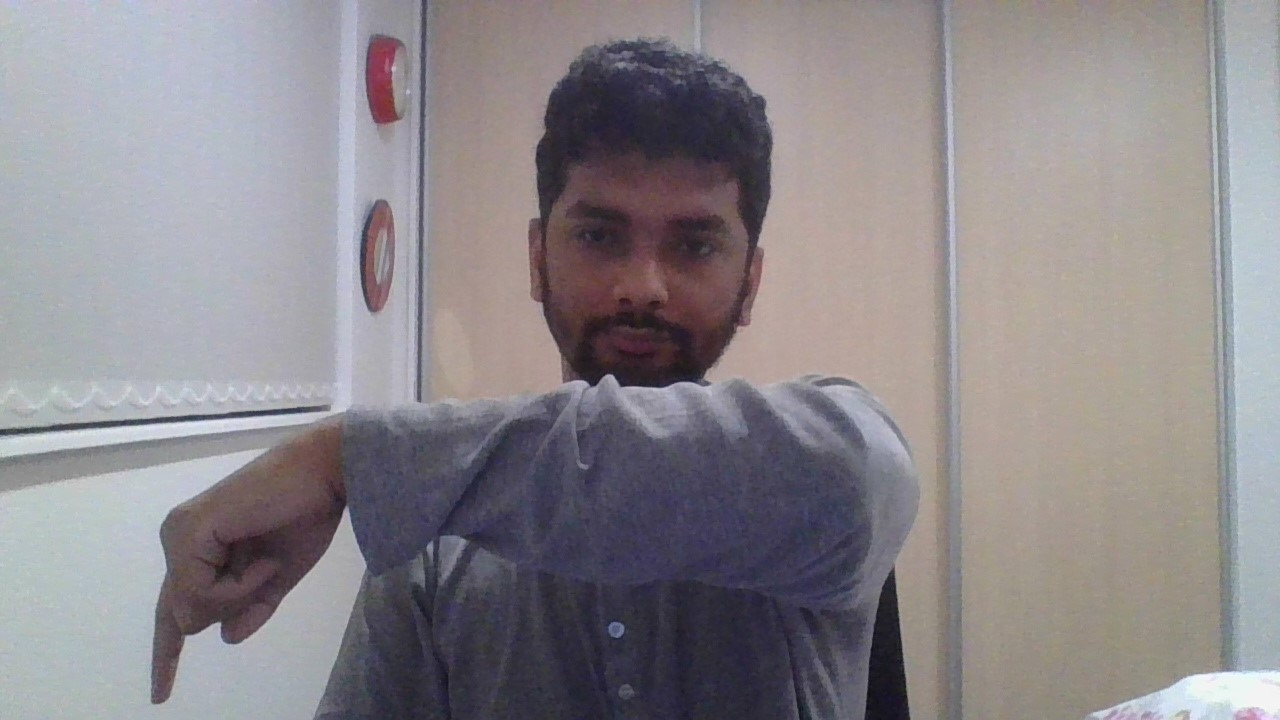below: (149, 413, 345, 705)
